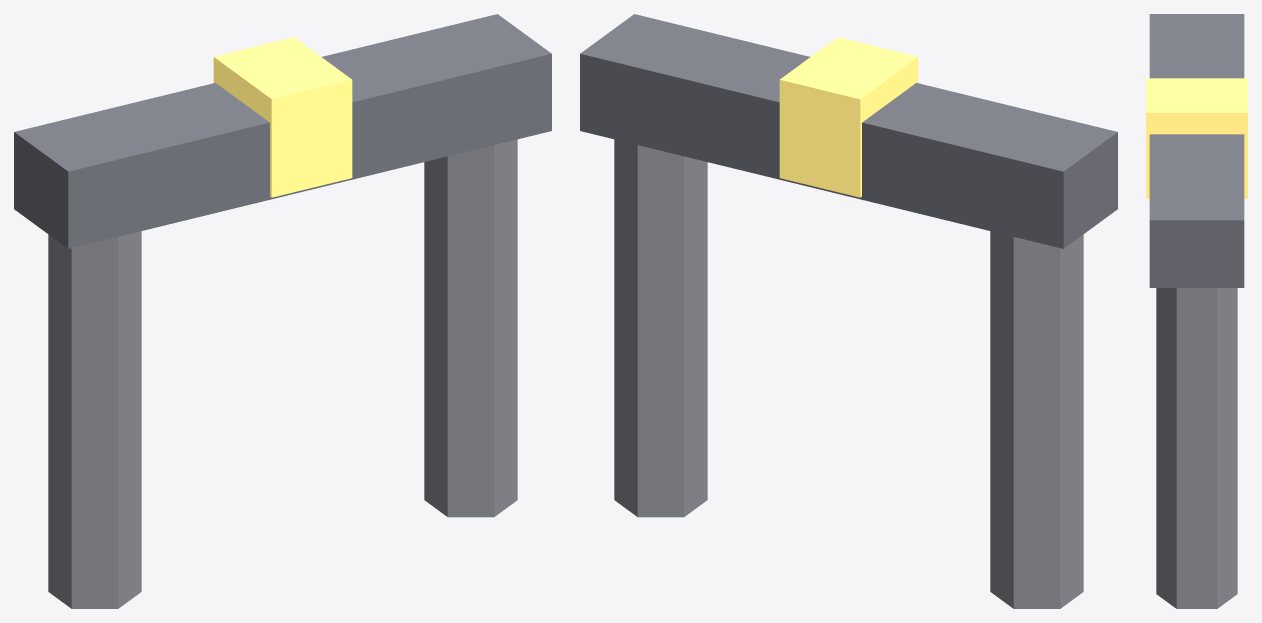
The model's file is dungeon_arch.glb.
The picture shows the model from 3 angles, left to right: view 1: azimuth 30°, elevation 25°; view 2: azimuth 150°, elevation 25°; view 3: azimuth 270°, elevation 25°; orthographic projection. The views are drawn at different scales.
Visible parts, largest first — view 1: ArchLeft; view 2: ArchLeft; view 3: ArchLeft.
Part boxes in pixels (x1,y1,x2,y2): ArchLeft: (14, 14, 551, 608); ArchLeft: (580, 14, 1117, 608); ArchLeft: (1146, 14, 1247, 608).
Bounding box in the file's own units: 3.6 × 3.4 × 0.75.
